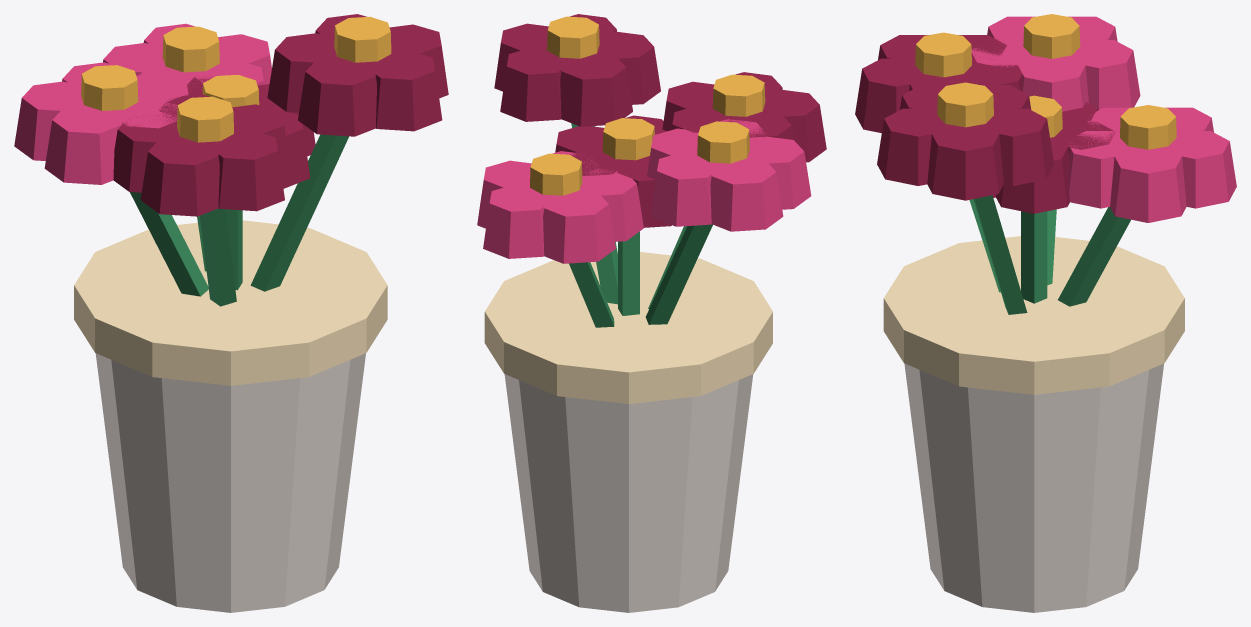
Rendered from flowers.glb.
3 renders of one model, left to right at view 1: azimuth 30°, elevation 25°; view 2: azimuth 150°, elevation 25°; view 3: azimuth 270°, elevation 25°, orthographic. The views are drawn at different scales.
Visible parts, largest first — view 1: Vaso, Borda, Pétala.013, Pétala.023, Pétala.008, Pétala.024, Pétala.014, Haste.002, Pétala.007, Pétala.012, Haste.001, Pétala.022 (+16 smaller); view 2: Vaso, Borda, Pétala.007, Pétala.017, Pétala.012, Pétala.006, Pétala.011, Pétala.016, Pétala.013, Pétala.008, Pétala.018, Haste.001 (+18 smaller); view 3: Vaso, Borda, Pétala.015, Pétala.010, Pétala.011, Pétala.014, Pétala.016, Pétala.006, Pétala.019, Pétala.024, Pétala.005, Haste.003 (+21 smaller).
Boxes of the visible parts, x1,y1,x2,y2 form: Vaso: [95, 353, 365, 612]; Borda: [74, 220, 387, 385]; Pétala.013: [298, 57, 376, 136]; Pétala.023: [140, 137, 219, 216]; Pétala.008: [44, 105, 122, 184]; Pétala.024: [208, 130, 284, 211]; Pétala.014: [369, 50, 442, 131]; Haste.002: [250, 134, 348, 291]; Pétala.007: [14, 81, 83, 160]; Pétala.012: [267, 33, 336, 112]; Haste.001: [130, 192, 208, 296]; Pétala.022: [113, 114, 179, 192]; Vaso: [504, 374, 753, 612]; Borda: [484, 252, 772, 404]; Pétala.007: [710, 158, 783, 231]; Pétala.017: [543, 190, 615, 263]; Pétala.012: [560, 53, 632, 126]; Pétala.006: [650, 152, 721, 226]; Pétala.011: [500, 48, 570, 121]; Pétala.016: [483, 186, 553, 258]; Pétala.013: [597, 31, 660, 104]; Pétala.008: [747, 136, 811, 209]; Pétala.018: [580, 168, 643, 241]; Haste.001: [645, 224, 712, 324]; Vaso: [904, 363, 1163, 612]; Borda: [883, 236, 1184, 394]; Pétala.015: [1110, 147, 1186, 222]; Pétala.010: [927, 124, 1003, 200]; Pétala.011: [982, 108, 1053, 185]; Pétala.014: [877, 108, 948, 185]; Pétala.016: [1166, 131, 1236, 208]; Pétala.006: [1068, 40, 1140, 110]; Pétala.019: [1068, 131, 1130, 208]; Pétala.024: [855, 58, 925, 133]; Pétala.005: [1018, 56, 1088, 111]; Haste.003: [1058, 207, 1130, 306].
Bounding box in the file's own units: 0.2746 × 0.3925 × 0.2612.
